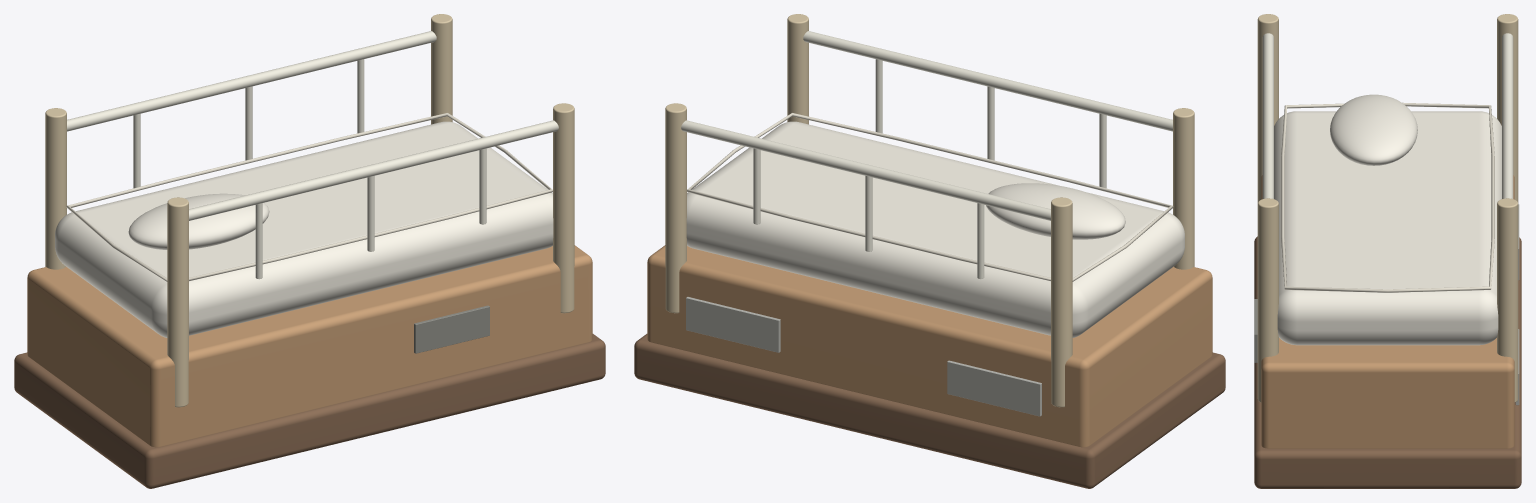
File: room_l2_img2_nursery_bed.glb
3 renders of one model, left to right at view 1: azimuth 30°, elevation 25°; view 2: azimuth 150°, elevation 25°; view 3: azimuth 270°, elevation 25°, orthographic. The views are drawn at different scales.
Parts seen in each view (by area): view 1: bed_low_clean_walnut_drawer_base, bed_soft_single_mattress, bed_recessed_walnut_shadow_base, bed_single_soft_guard_rail_-0.3, bed_single_soft_guard_rail_+0.3, bed_rounded_oak_corner_post_-0.6_-0.3, bed_rounded_oak_corner_post_+0.6_-0.3, bed_mattress_soft_piped_edge, bed_plain_small_pillow, bed_rounded_oak_corner_post_-0.6_+0.3, bed_rear_inspection_plate, bed_rounded_oak_corner_post_+0.6_+0.3; view 2: bed_low_clean_walnut_drawer_base, bed_soft_single_mattress, bed_recessed_walnut_shadow_base, bed_single_soft_guard_rail_+0.3, bed_single_soft_guard_rail_-0.3, bed_plain_small_pillow, bed_rounded_oak_corner_post_-0.6_+0.3, bed_rounded_oak_corner_post_+0.6_+0.3, bed_mattress_soft_piped_edge, bed_front_drawer_gap_-0.4, bed_front_drawer_gap_+0.4, bed_rounded_oak_corner_post_-0.6_-0.3 (+1 smaller); view 3: bed_soft_single_mattress, bed_low_clean_walnut_drawer_base, bed_recessed_walnut_shadow_base, bed_plain_small_pillow, bed_rounded_oak_corner_post_+0.6_+0.3, bed_rounded_oak_corner_post_+0.6_-0.3, bed_mattress_soft_piped_edge, bed_single_soft_guard_rail_+0.3, bed_single_soft_guard_rail_-0.3, bed_rounded_oak_corner_post_-0.6_+0.3, bed_rounded_oak_corner_post_-0.6_-0.3.
Part boxes in pixels (<box>): bed_low_clean_walnut_drawer_base: <box>27,245,592,447</box>; bed_soft_single_mattress: <box>55,121,553,337</box>; bed_recessed_walnut_shadow_base: <box>14,334,605,488</box>; bed_single_soft_guard_rail_-0.3: <box>189,120,558,220</box>; bed_single_soft_guard_rail_+0.3: <box>67,31,436,131</box>; bed_rounded_oak_corner_post_-0.6_-0.3: <box>167,197,188,407</box>; bed_rounded_oak_corner_post_+0.6_-0.3: <box>553,103,574,313</box>; bed_mattress_soft_piped_edge: <box>66,113,552,281</box>; bed_plain_small_pillow: <box>128,193,269,249</box>; bed_rounded_oak_corner_post_-0.6_+0.3: <box>45,108,66,269</box>; bed_rear_inspection_plate: <box>414,305,489,353</box>; bed_rounded_oak_corner_post_+0.6_+0.3: <box>431,14,452,124</box>; bed_low_clean_walnut_drawer_base: <box>647,245,1212,447</box>; bed_soft_single_mattress: <box>686,121,1184,337</box>; bed_recessed_walnut_shadow_base: <box>634,334,1225,488</box>; bed_single_soft_guard_rail_+0.3: <box>681,120,1050,220</box>; bed_single_soft_guard_rail_-0.3: <box>803,31,1172,131</box>; bed_plain_small_pillow: <box>986,183,1125,239</box>; bed_rounded_oak_corner_post_-0.6_+0.3: <box>1051,197,1072,407</box>; bed_rounded_oak_corner_post_+0.6_+0.3: <box>665,103,686,313</box>; bed_mattress_soft_piped_edge: <box>687,113,1173,281</box>; bed_front_drawer_gap_-0.4: <box>947,360,1041,416</box>; bed_front_drawer_gap_+0.4: <box>686,297,780,352</box>; bed_rounded_oak_corner_post_-0.6_-0.3: <box>1173,108,1194,269</box>; bed_soft_single_mattress: <box>1274,111,1501,345</box>; bed_low_clean_walnut_drawer_base: <box>1261,175,1514,448</box>; bed_recessed_walnut_shadow_base: <box>1254,236,1521,488</box>; bed_plain_small_pillow: <box>1330,94,1417,165</box>; bed_rounded_oak_corner_post_+0.6_+0.3: <box>1497,198,1518,402</box>; bed_rounded_oak_corner_post_+0.6_-0.3: <box>1257,198,1278,402</box>; bed_mattress_soft_piped_edge: <box>1281,102,1494,292</box>; bed_single_soft_guard_rail_+0.3: <box>1502,33,1513,198</box>; bed_single_soft_guard_rail_-0.3: <box>1262,33,1273,198</box>; bed_rounded_oak_corner_post_-0.6_+0.3: <box>1497,14,1518,203</box>; bed_rounded_oak_corner_post_-0.6_-0.3: <box>1257,14,1278,203</box>.
Bounding box in the file's own units: 1.48 × 0.85 × 0.76.
